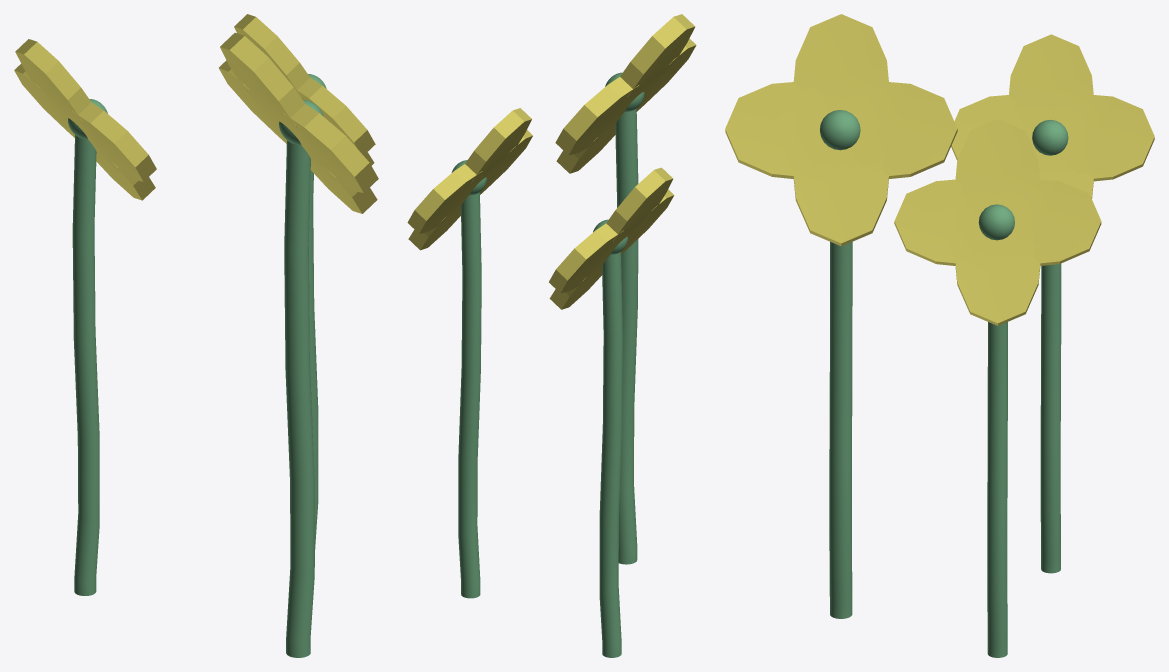
The model's file is Flowers 2.fbx.
3 renders of one model, left to right at view 1: azimuth 30°, elevation 25°; view 2: azimuth 150°, elevation 25°; view 3: azimuth 270°, elevation 25°, orthographic. The views are drawn at different scales.
Parts seen in each view (by area): view 1: pCylinder18; view 2: pCylinder18; view 3: pCylinder18.
Boxes of the visible parts, x1,y1,x2,y2 form: pCylinder18: [14, 14, 378, 657]; pCylinder18: [407, 14, 696, 657]; pCylinder18: [725, 14, 1154, 657].
Bounding box in the file's own units: 3 × 5.79 × 3.91.
